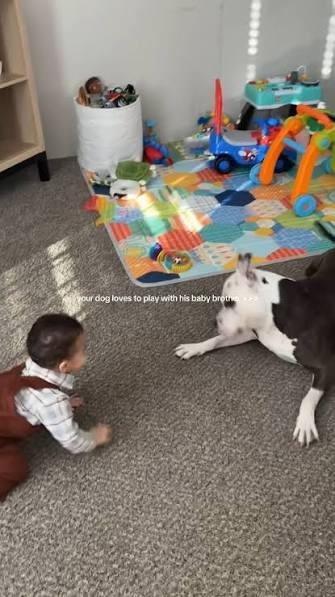adult_dog: (173, 247, 335, 448)
non-dog: (0, 313, 114, 505)
